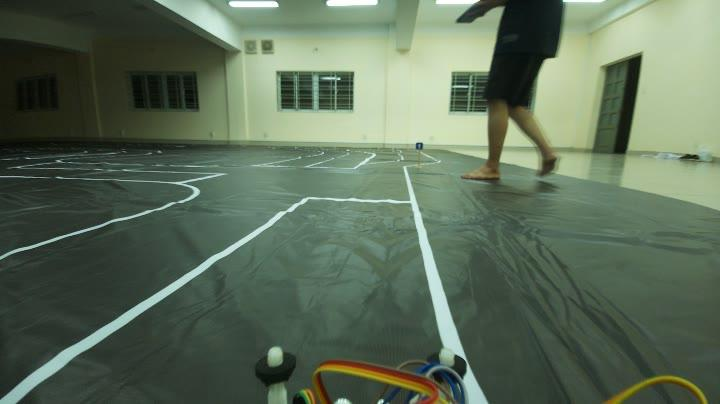onewayroad: (412, 136, 428, 154)
